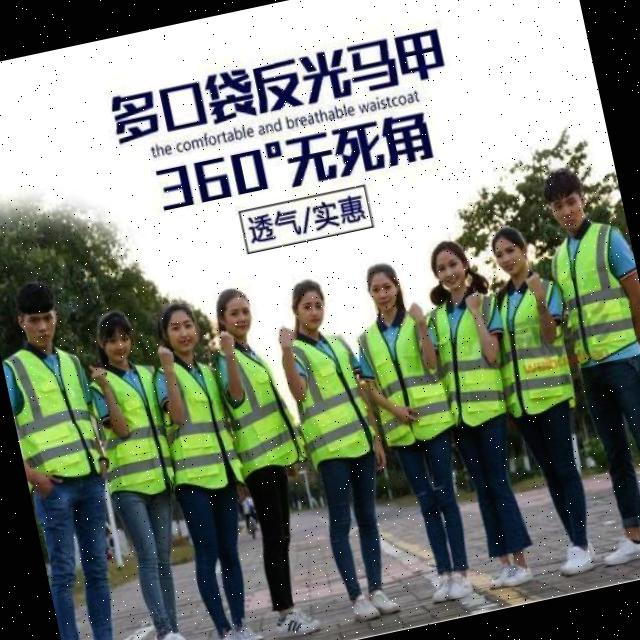vest: (490, 278, 572, 413), (6, 355, 92, 479), (364, 314, 444, 446), (158, 362, 234, 493), (282, 340, 364, 460), (88, 369, 167, 492), (552, 230, 626, 358), (430, 302, 503, 430), (222, 346, 290, 470)
